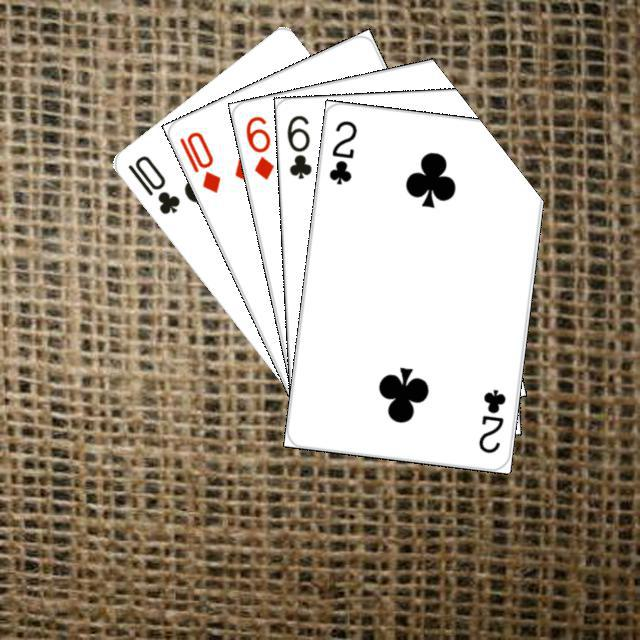10c: (122, 150, 182, 216)
10d: (174, 126, 223, 195)
2c: (324, 116, 359, 187), (473, 384, 508, 455)
6c: (282, 110, 313, 181)
6d: (240, 111, 276, 182)
